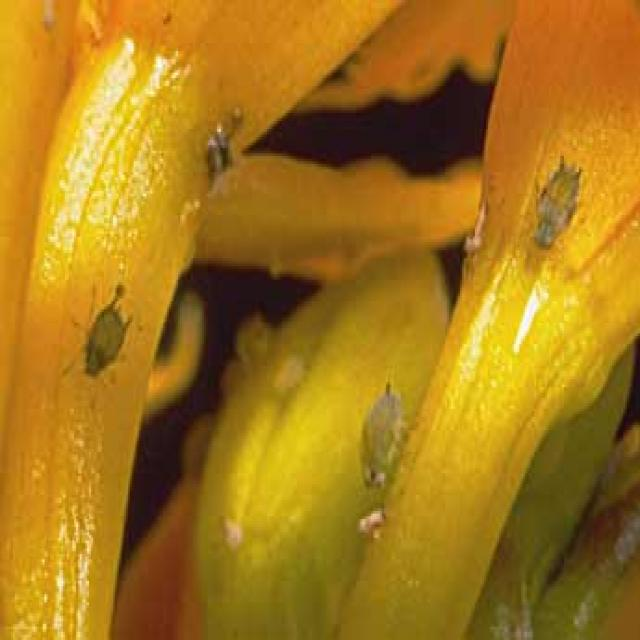Aphid-Grown-: (336, 373, 414, 520), (63, 280, 145, 402), (532, 133, 592, 267)
